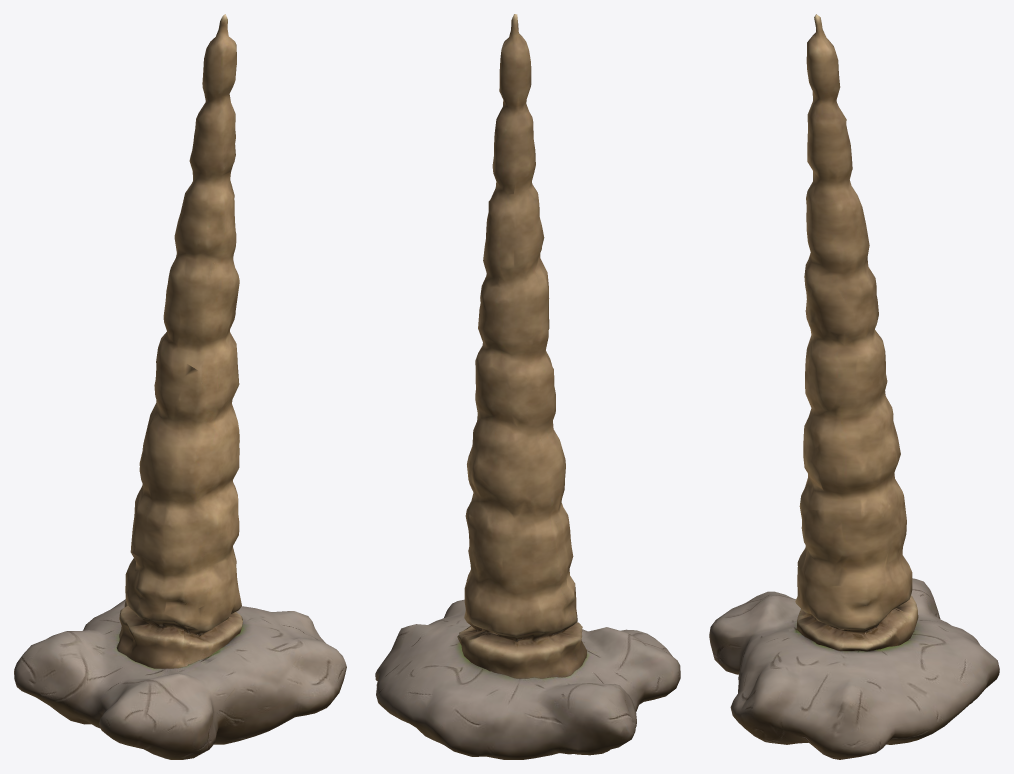
The model's file is trap_drip_thin.glb.
3 renders of one model, left to right at view 1: azimuth 30°, elevation 25°; view 2: azimuth 150°, elevation 25°; view 3: azimuth 270°, elevation 25°, orthographic.
Parts seen in each view (by area): view 1: stone, rock; view 2: stone, rock; view 3: stone, rock.
Part boxes in pixels (<box>): stone: <box>117,14,242,668</box>; rock: <box>14,599,346,759</box>; stone: <box>457,14,586,678</box>; rock: <box>375,599,680,759</box>; stone: <box>795,14,918,651</box>; rock: <box>709,578,999,759</box>.
Bounding box in the file's own units: 0.7038 × 1.71 × 0.6346.
2 materials, 2 textured.
